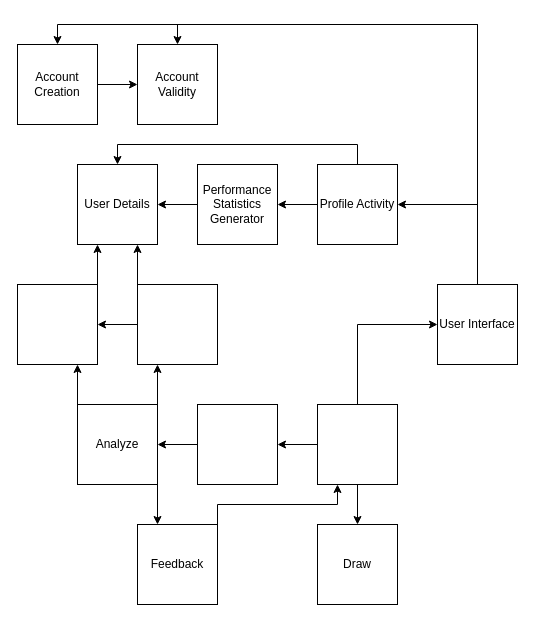
Image size: 535x622. Some labels were removed from this diagram. Here are the shapes that lost their labels. From the top down, the centre of each, then its label:
point 57,324: User Activity
point 177,324: Exercise Data
point 237,444: Metrics
point 357,444: Analysis Control Flow
